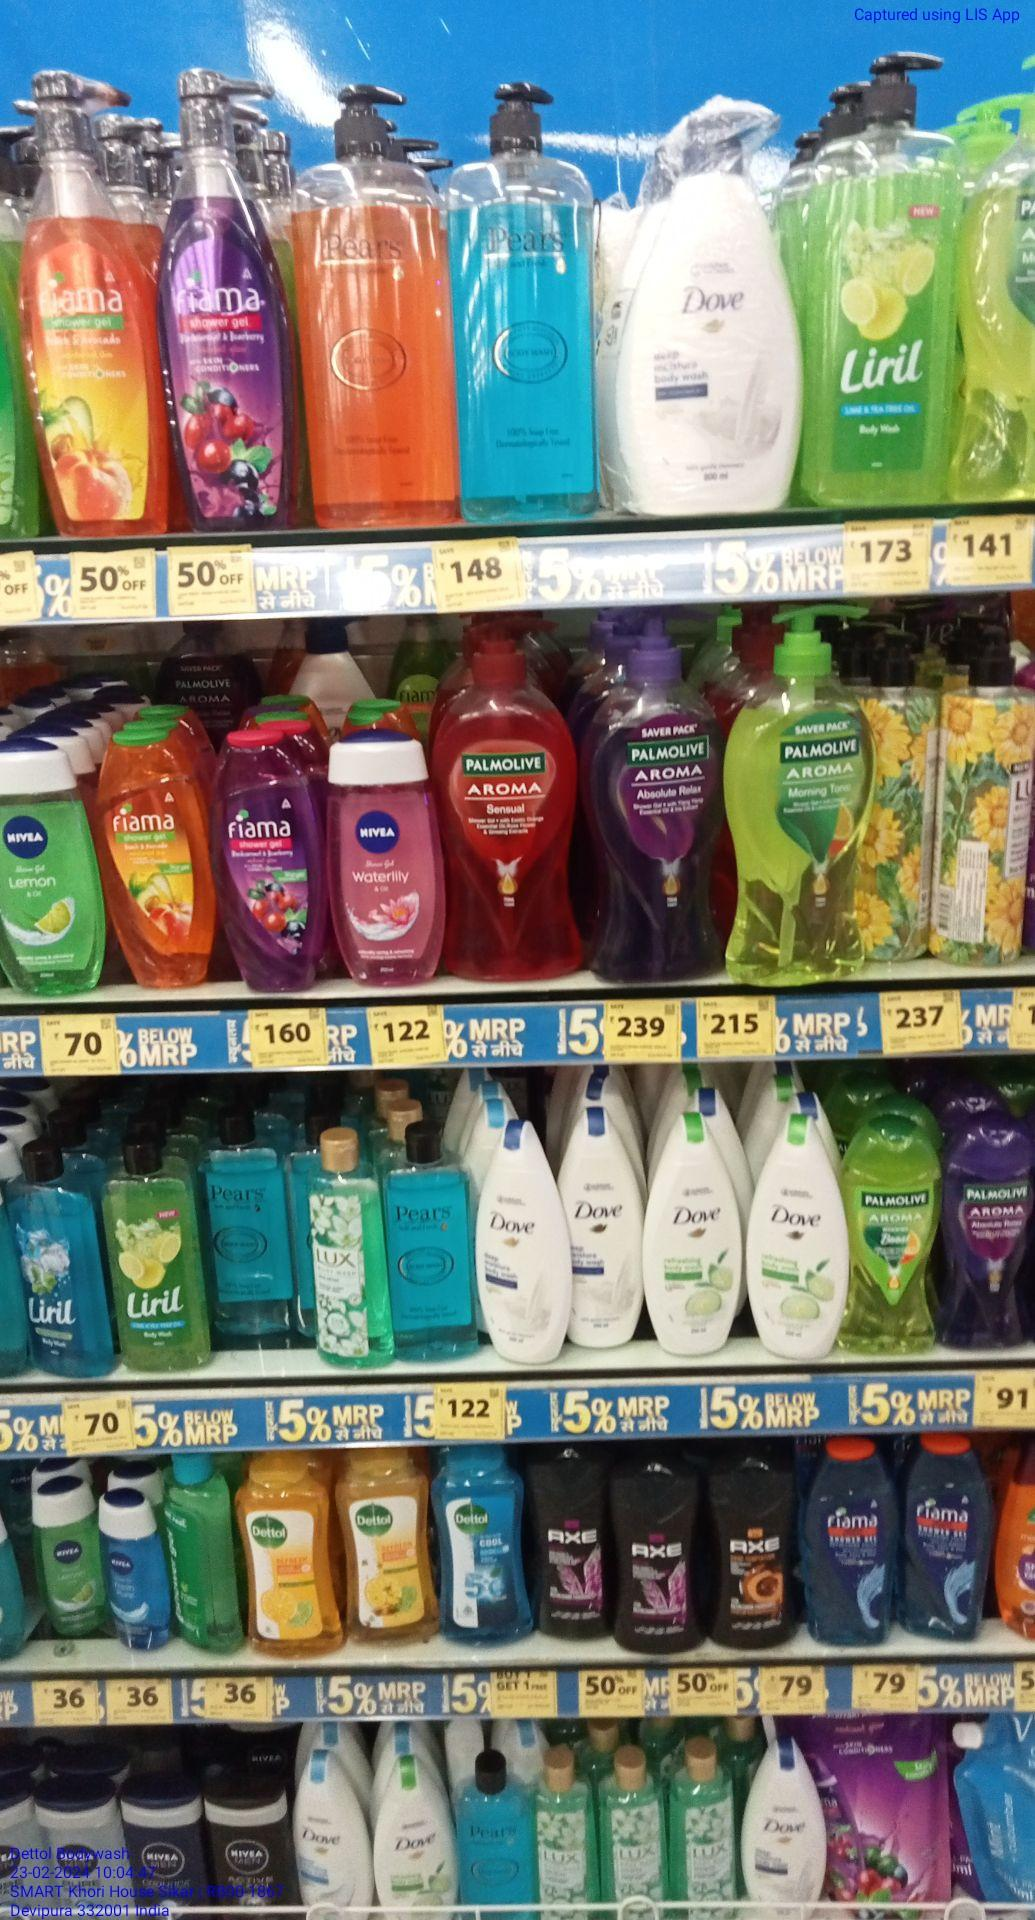Dettol_Bodywash_Cool: (435, 1445, 529, 1647)
Dettol_Bodywash_Refresh: (241, 1454, 334, 1658), (340, 1446, 426, 1649)
Dove_Deep_Moisture_Body_Wash_250ML: (472, 1111, 563, 1365), (566, 1107, 646, 1353), (739, 1739, 830, 1920)
Dove_Gentle_Exfoliating_Body_Wash_250ML: (294, 1756, 370, 1920)
Dove_Refreshing_Body_Wash_250ML: (375, 1756, 452, 1920)
Fiama_Shower_Gel_Peach_and_Avocado_250ML: (106, 729, 215, 989)
Liril_Cooling_Mint_Body_Wash_250ML: (18, 1136, 103, 1379)
Liril_Lime_and_Tea_Tree_Oil_Body_Wash_250ML: (108, 1129, 204, 1377)
Lux_Body_Wash_Skin_Detox_Freesia_Scent_and_Alove_Vera_245ML: (301, 1125, 380, 1370), (673, 1743, 739, 1920), (537, 1744, 600, 1920), (605, 1752, 663, 1920)
Nivea_Shower_Gel_Lemon_and_Oil_250ML: (0, 735, 99, 996)
Nivea_Shower_Gel_Waterlily_and_Oil_250ML: (322, 731, 440, 986)
Palmolive_Aroma_Morning_Tonic_Shower_Gel_250ML: (743, 1108, 836, 1365), (843, 1117, 942, 1353), (649, 1110, 737, 1356)
Palmolive_Aroma_Relax_250ML: (950, 1122, 1035, 1348)
Pears_Pure_Glycerin_and_Mint_Extracts_Body_Wash_250ML: (206, 1102, 303, 1342), (384, 1134, 473, 1362), (459, 1757, 534, 1920)
